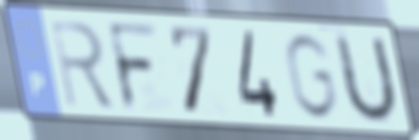4: (237, 29, 280, 119)
7: (167, 23, 217, 117)
F: (104, 19, 162, 115)
G: (281, 30, 341, 123)
R: (47, 17, 119, 112)
U: (333, 29, 400, 128)
